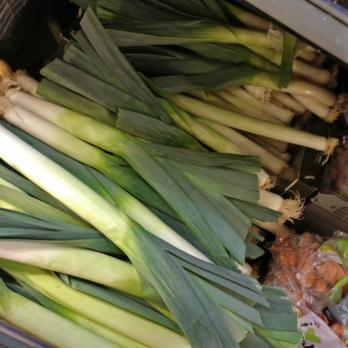Leek Leaves: (2, 62, 264, 340), (72, 0, 305, 163)
